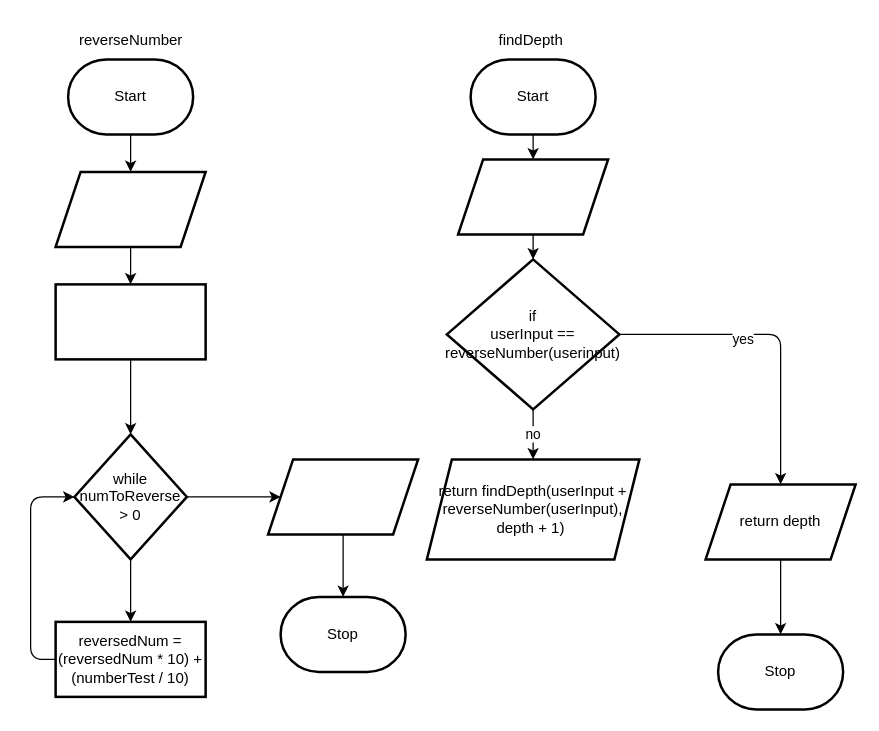
Some shapes in this 879 by 731 pixel diagram are drawn without their labels. Here are the shapes that lost their labels. From the top down, the centre of each, then its label:
At point (130, 209): "get numToReverse".
At point (532, 196): "get userInput".
At point (130, 321): "reversedNum = 0".
At point (342, 496): "return reveresedNumber".
